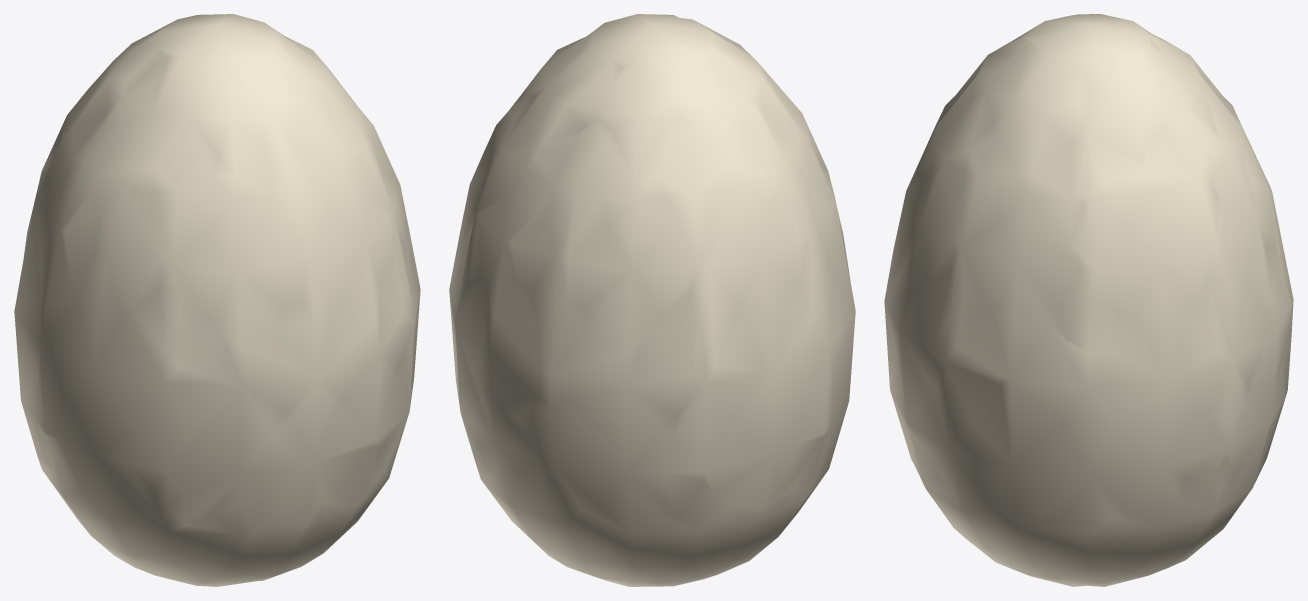
Rendered from dragon-egg.glb.
3 renders of one model, left to right at view 1: azimuth 30°, elevation 25°; view 2: azimuth 150°, elevation 25°; view 3: azimuth 270°, elevation 25°, orthographic.
Visible parts, largest first — view 1: defaultobject; view 2: defaultobject; view 3: defaultobject.
Part boxes in pixels (x1,y1,x2,y2): defaultobject: (14, 14, 420, 586); defaultobject: (449, 14, 855, 586); defaultobject: (884, 14, 1293, 586).
Bounding box in the file's own units: 1.29 × 1.9 × 1.29.
